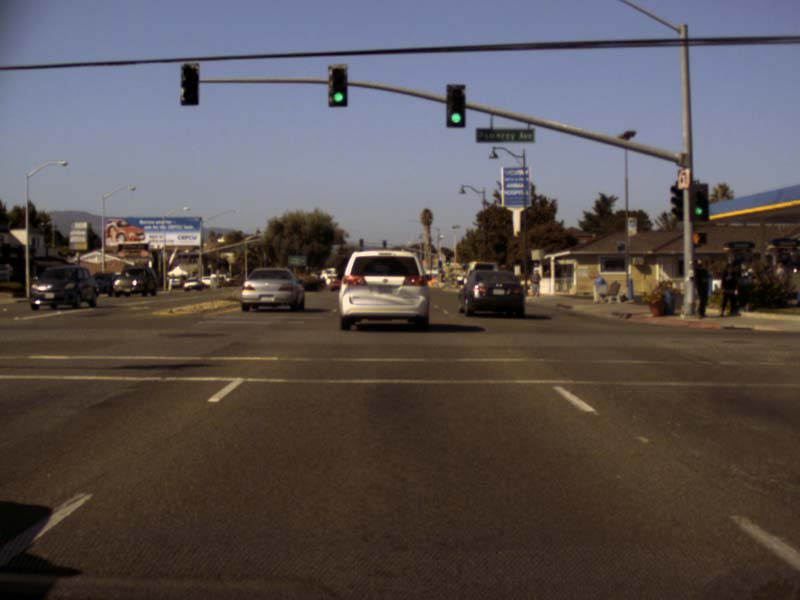Green: (445, 86, 466, 126), (327, 65, 347, 106), (688, 183, 709, 220)
Yellow: (692, 232, 699, 244)
